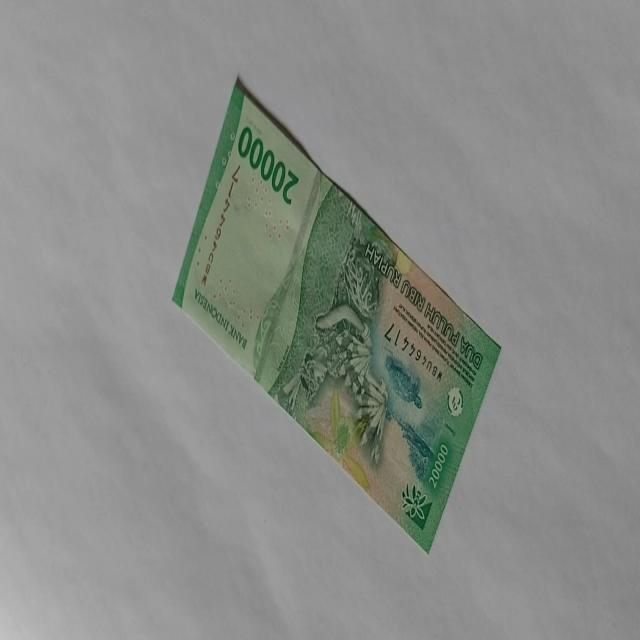dua puluh ribu rupiah: (172, 73, 502, 554), (236, 122, 300, 206)
